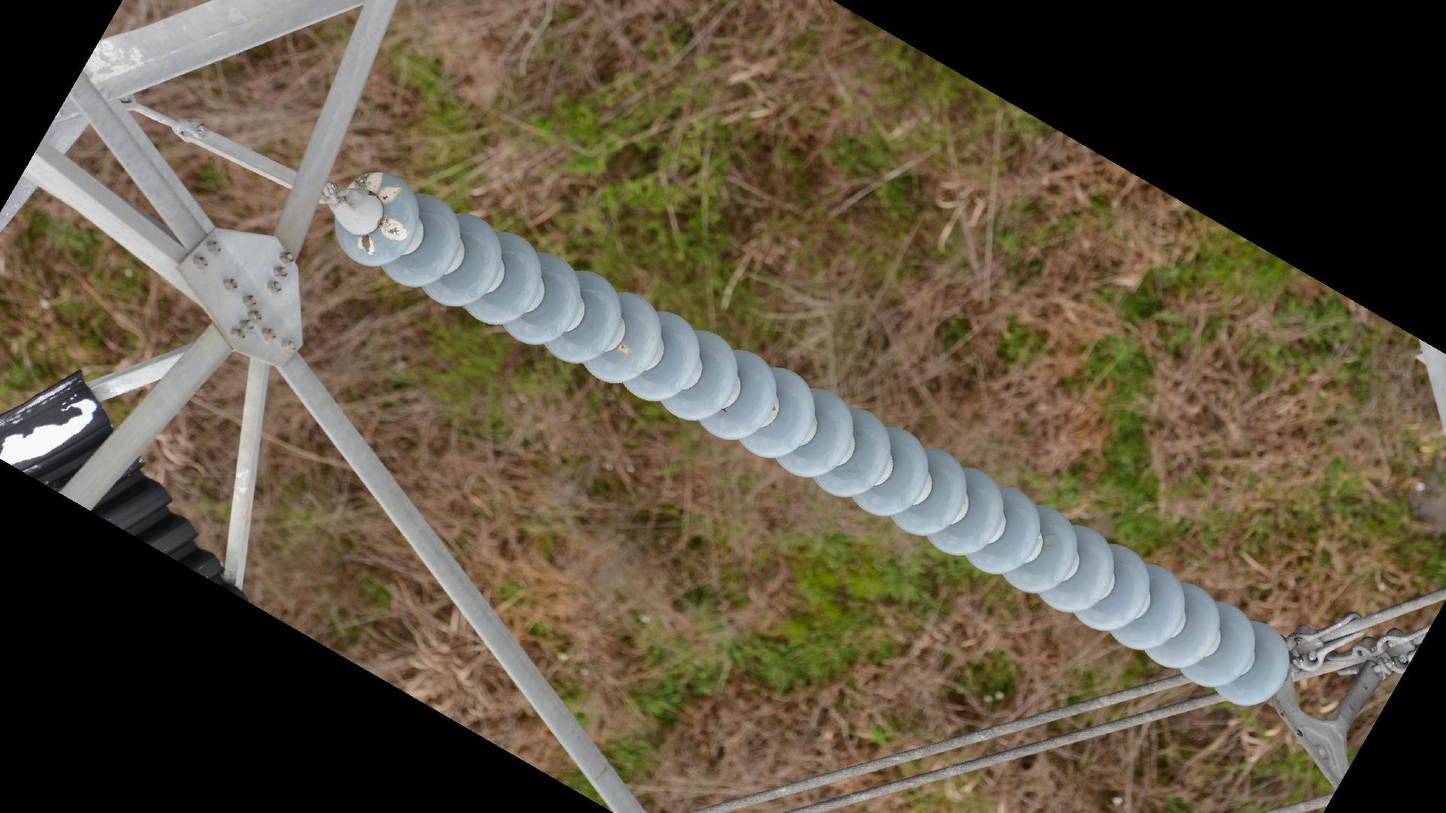insulator: (327, 166, 1299, 712)
insulator_flashover: (348, 168, 401, 207), (378, 217, 410, 244), (353, 232, 377, 258)
